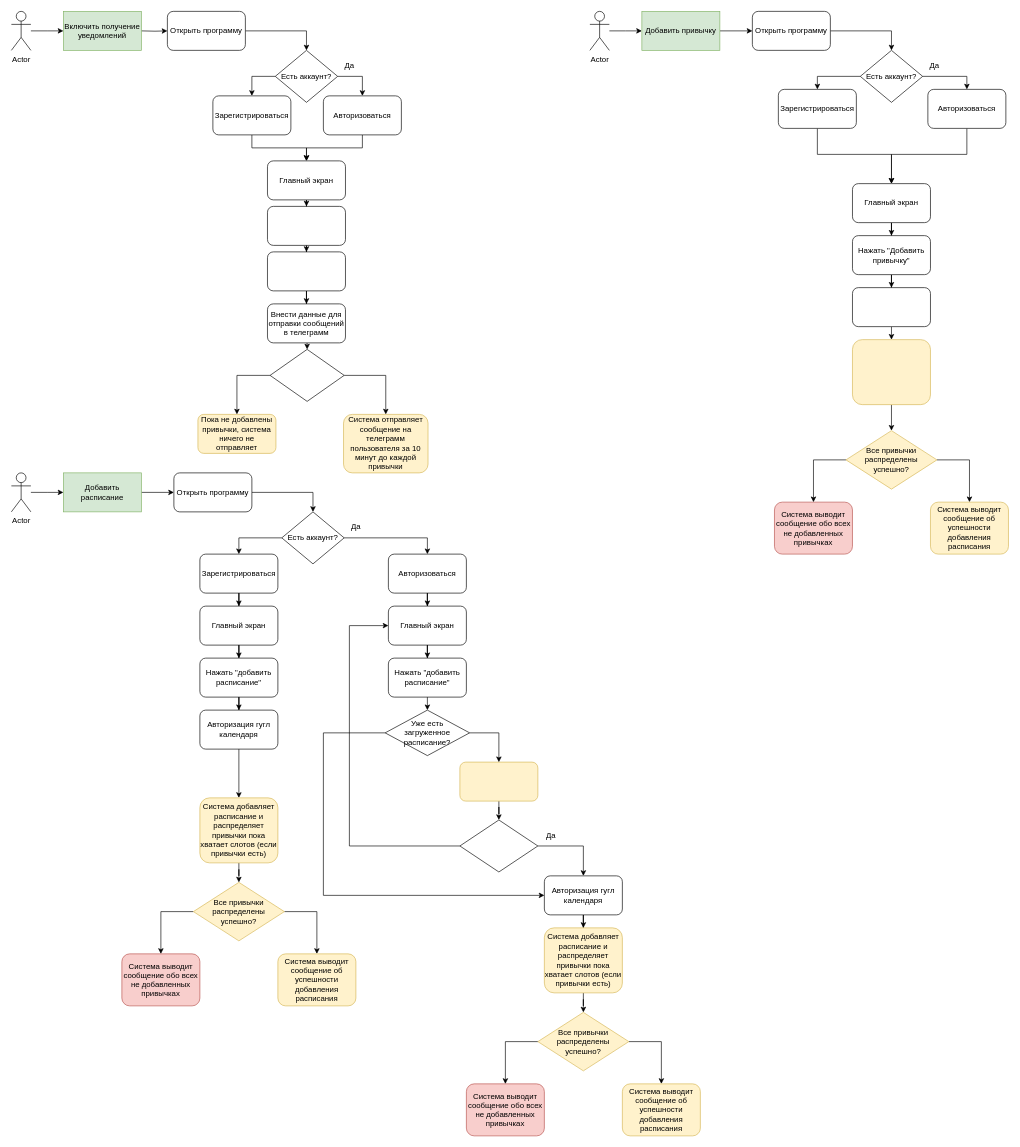
Some shapes in this 1020 by 1147 pixel diagram are drawn without their labels. The box of each missing label's shape, as (x1, y1, x2, y2) in pixels:
Ввести параметры добавляемой привычки: (852, 287, 930, 327)
Зайти в настройки: (267, 206, 345, 245)
Заменить расписание на новое?: (459, 819, 538, 872)
Нажать "включить уведомления": (267, 251, 345, 291)
Система предупреждает о замене текущего расписания на новое: (459, 761, 538, 801)
Система распределяет привычки пока хватает слотов (если привычки есть): (852, 339, 930, 405)
Уже есть добавленные привычки?: (269, 349, 344, 401)
